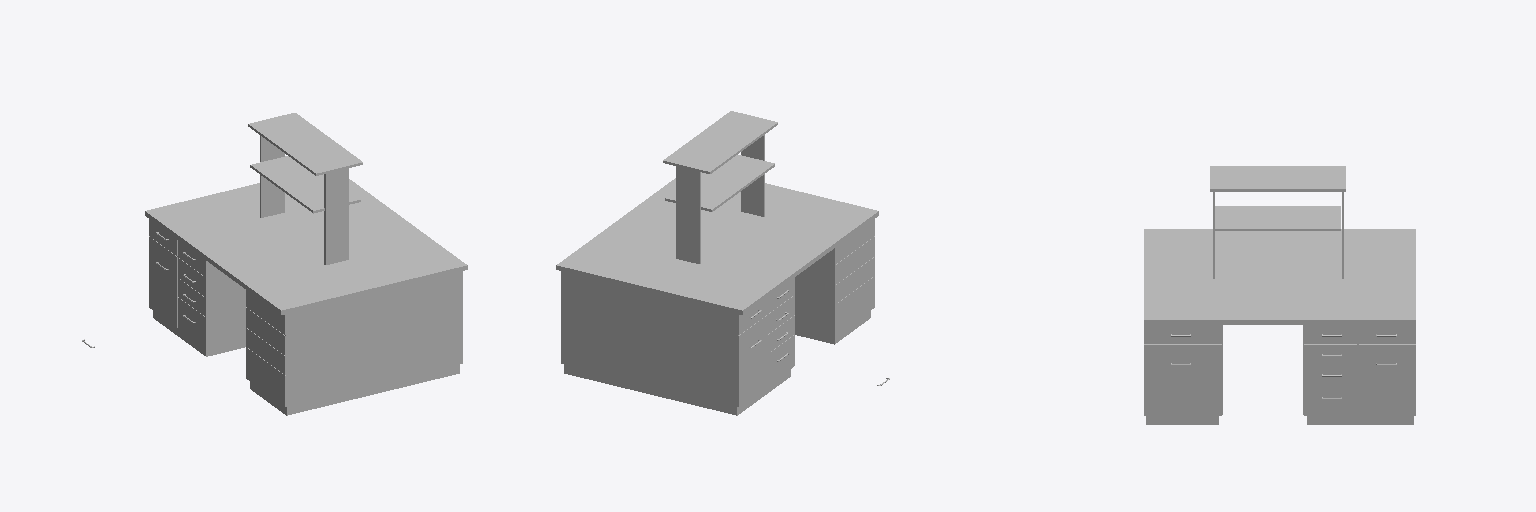
Rendered from lab_bench2.obj.
3 views of the same model, side by side, from view 1: azimuth 30°, elevation 25°; view 2: azimuth 150°, elevation 25°; view 3: azimuth 270°, elevation 25° (orthographic).
Parts seen in each view (by area): view 1: Cube, Cube.002, Cube.021, Cube.019_Cube.022, Cube.022_Cube.023, Cube.020; view 2: Cube, Cube.002, Cube.021, Cube.020, Cube.022_Cube.023, Cube.019_Cube.022; view 3: Cube.002, Cube, Cube.021, Cube.022_Cube.023, Cube.001.
Boxes of the visible parts, box(x1,y1,x2,y2) form: Cube: box(149, 219, 462, 415); Cube.002: box(145, 179, 467, 314); Cube.021: box(248, 113, 362, 175); Cube.019_Cube.022: box(324, 168, 348, 264); Cube.022_Cube.023: box(250, 156, 360, 213); Cube.020: box(260, 136, 284, 217); Cube: box(561, 219, 874, 415); Cube.002: box(556, 178, 878, 314); Cube.021: box(663, 111, 777, 173); Cube.020: box(676, 166, 700, 263); Cube.022_Cube.023: box(665, 155, 774, 211); Cube.019_Cube.022: box(741, 135, 764, 216); Cube.002: box(1144, 229, 1415, 324); Cube: box(1144, 325, 1415, 424); Cube.021: box(1210, 166, 1345, 191); Cube.022_Cube.023: box(1215, 206, 1340, 230); Cube.001: box(1304, 384, 1356, 415).
Size of the model in its own units: 4.86 by 3.3 by 4.